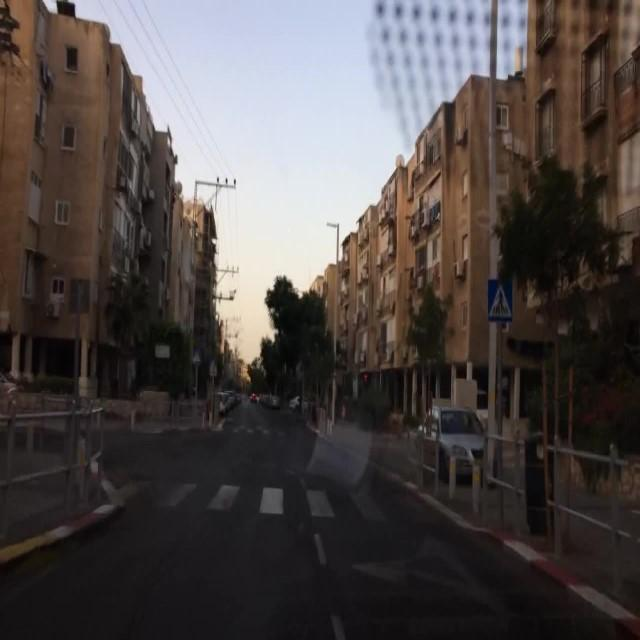single accident: (397, 377, 508, 502)
